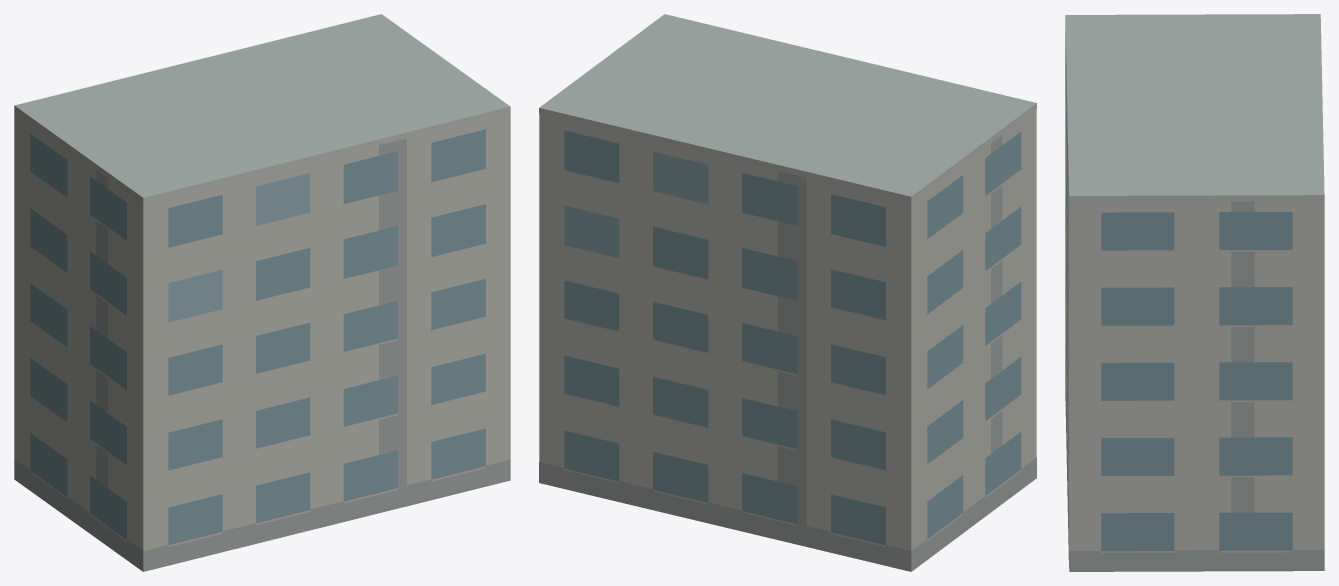
File: survey-upis-32874046.glb
The picture shows the model from 3 angles, left to right: view 1: azimuth 30°, elevation 25°; view 2: azimuth 150°, elevation 25°; view 3: azimuth 270°, elevation 25°; orthographic projection.
Parts seen in each view (by area): view 1: survey-upis-32874046.tmp; view 2: survey-upis-32874046.tmp; view 3: survey-upis-32874046.tmp.
Part boxes in pixels (left/top/right/bottom): survey-upis-32874046.tmp: left=14, top=14, right=510, bottom=571; survey-upis-32874046.tmp: left=539, top=14, right=1036, bottom=571; survey-upis-32874046.tmp: left=1065, top=14, right=1324, bottom=571.
Bounding box in the file's own units: 15.84 × 15.25 × 9.54.
